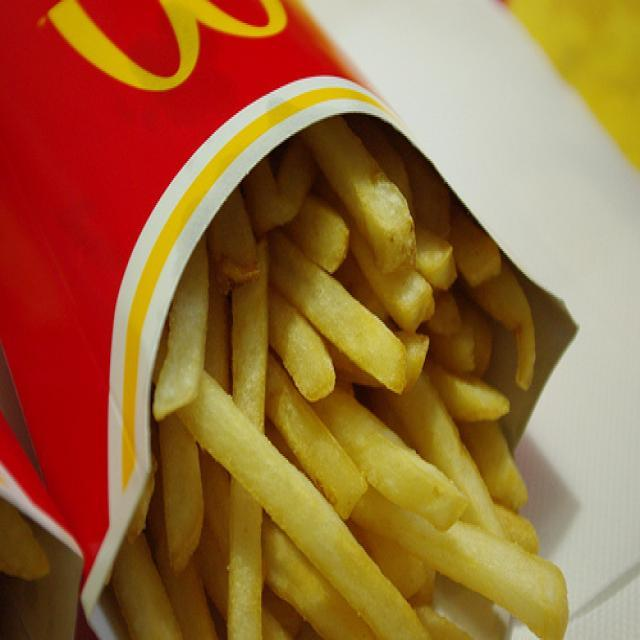French Fries: (169, 120, 553, 640)
